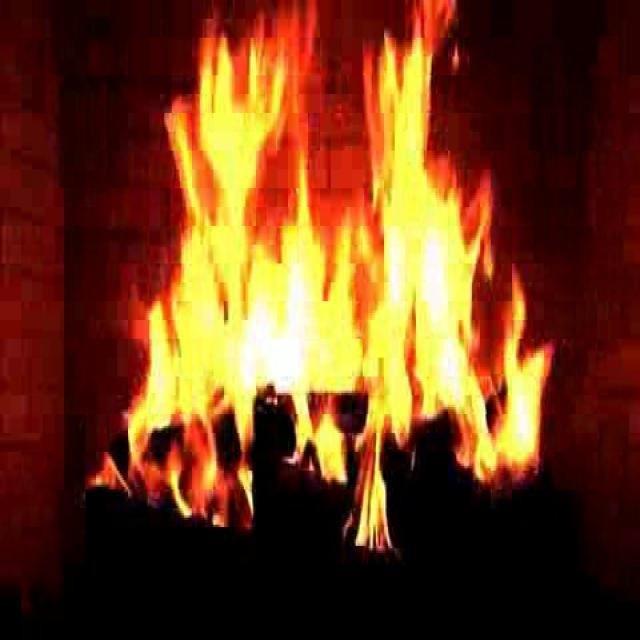fire: (144, 26, 522, 528)
